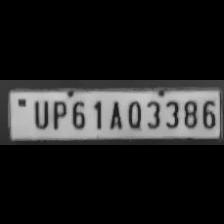1: (88, 96, 104, 130)
3: (144, 96, 162, 128), (162, 96, 180, 128)
6: (66, 96, 88, 130), (199, 96, 217, 128)
8: (180, 96, 198, 128)
A: (105, 97, 123, 129)
P: (48, 97, 68, 129)
Q: (124, 96, 144, 128)
U: (30, 97, 50, 129)
